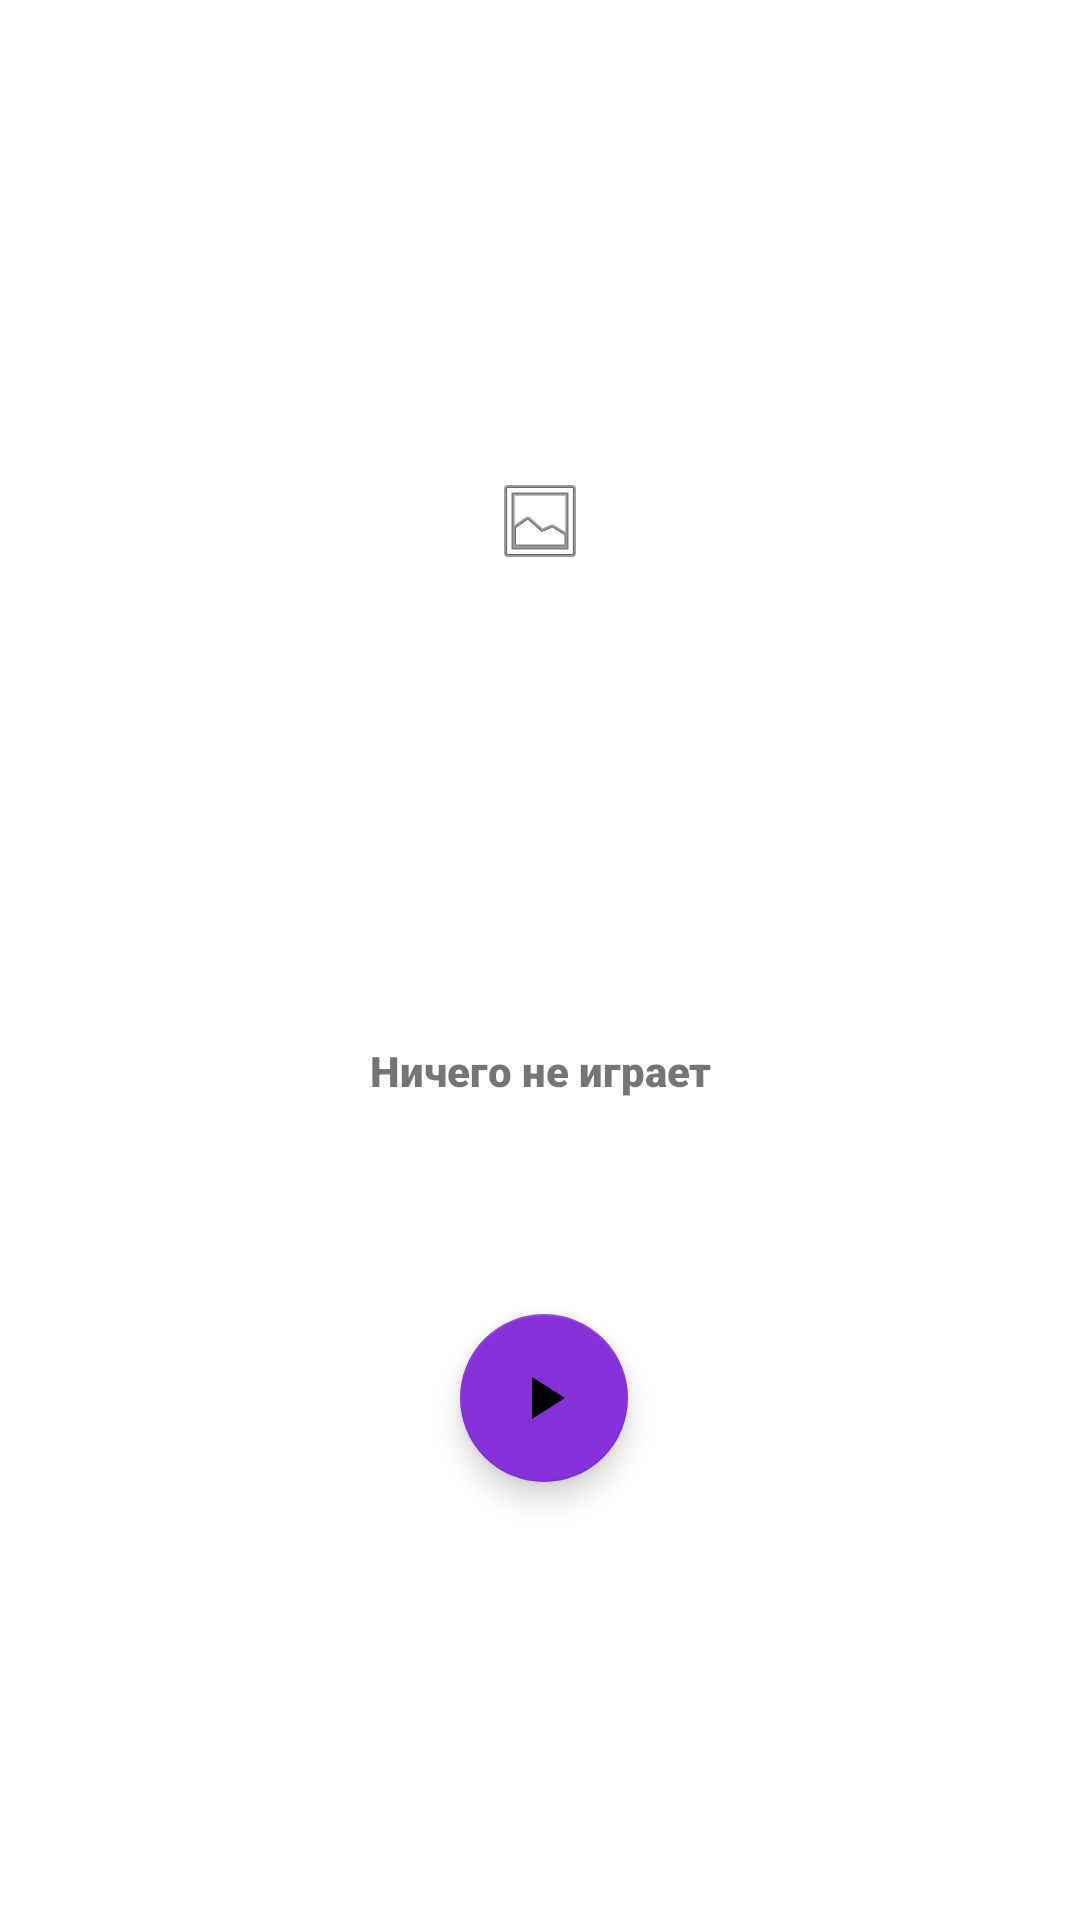

Icons on this 1080w x 1920h Android screen, each with its box as (x1, y1, x2, y2):
gallery: (504, 485, 576, 557)
play arrow: (460, 1314, 628, 1482)
